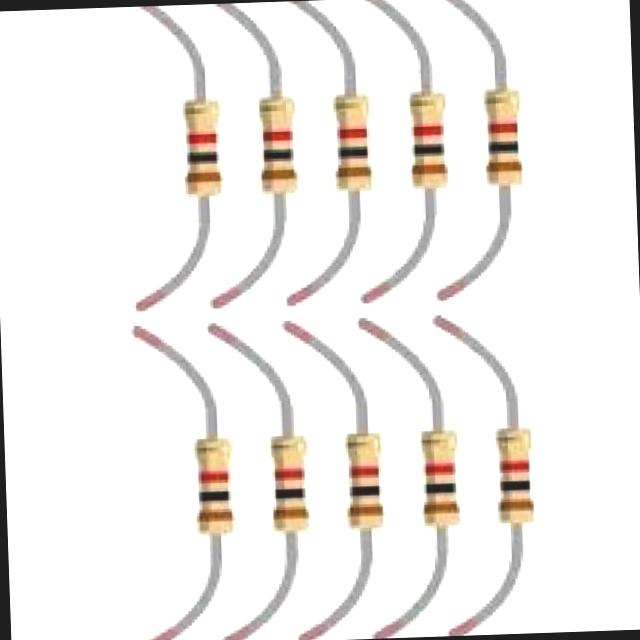Resistor: (236, 77, 321, 213), (162, 82, 238, 218), (253, 408, 321, 558), (398, 417, 476, 544), (325, 420, 403, 543), (462, 75, 536, 202), (472, 403, 540, 532), (389, 72, 456, 202), (316, 75, 382, 204), (175, 428, 243, 546)
